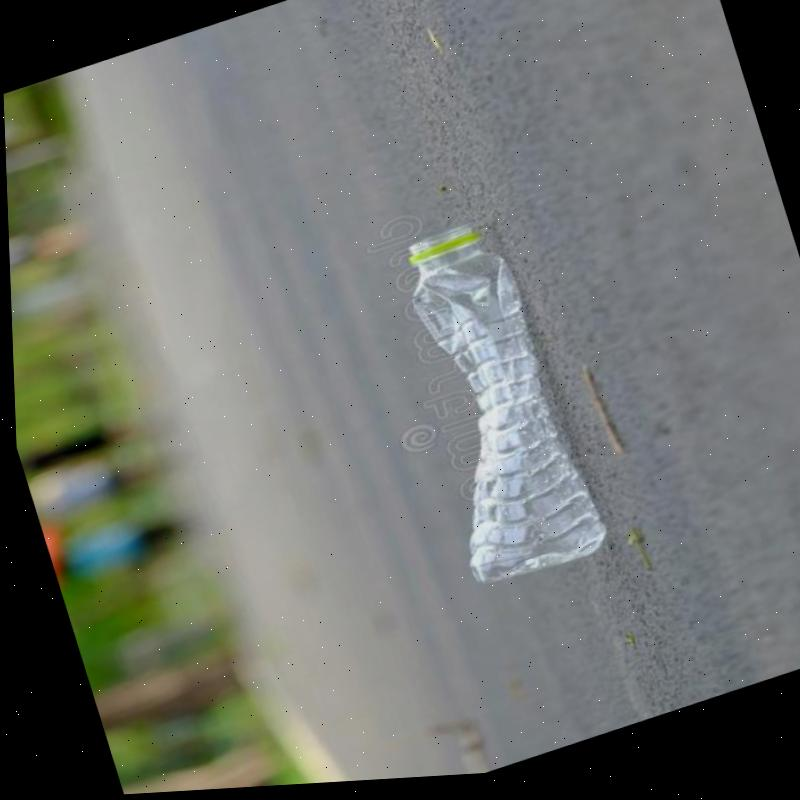botella: (366, 212, 605, 602)
